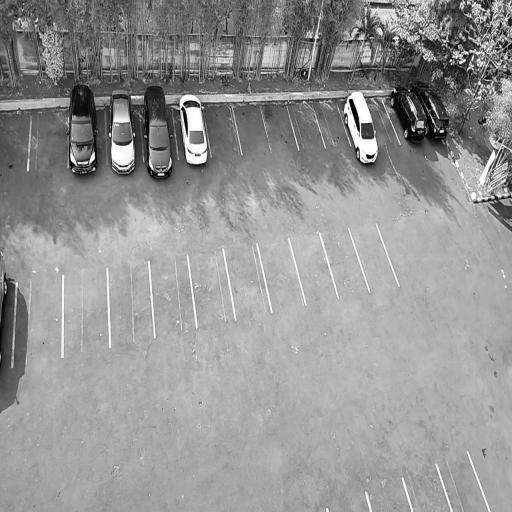Car: (140, 81, 177, 182), (338, 89, 381, 166), (68, 82, 99, 176), (107, 87, 138, 176), (384, 82, 427, 145), (409, 76, 450, 142), (175, 91, 210, 168)
Space Available: (14, 275, 62, 366), (64, 269, 108, 356), (150, 255, 196, 338), (109, 262, 153, 348), (189, 250, 235, 328), (258, 238, 305, 313), (289, 232, 337, 305), (225, 244, 271, 320), (320, 227, 369, 298), (349, 223, 399, 291), (438, 452, 489, 512), (29, 112, 68, 171), (403, 465, 450, 512), (204, 106, 241, 158), (0, 112, 31, 173), (233, 106, 271, 154), (287, 105, 325, 149), (261, 107, 298, 152), (312, 104, 350, 147), (367, 99, 400, 145), (367, 478, 411, 512)
